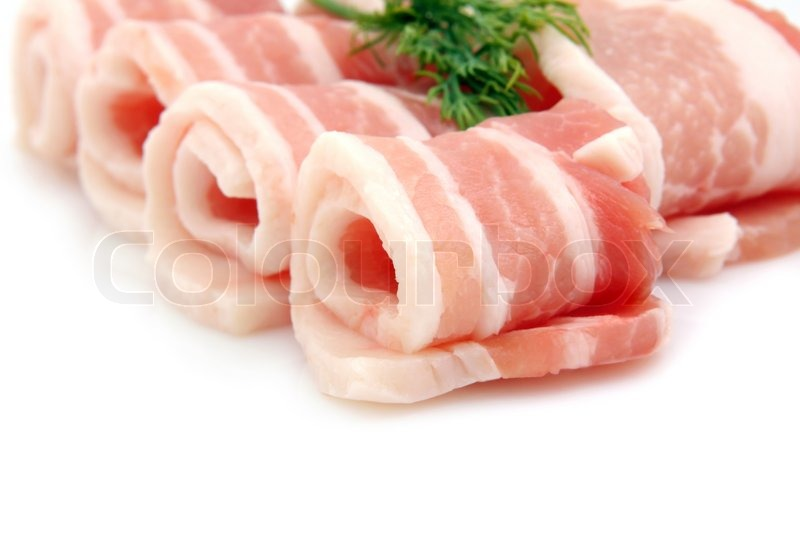bacon: (270, 121, 680, 400), (146, 79, 479, 322), (82, 33, 353, 192)
